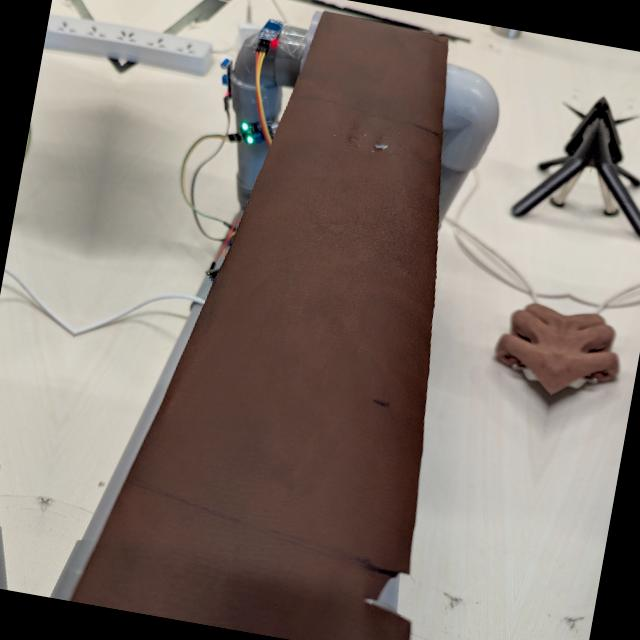belt_crack: (316, 95, 424, 173)
belt_tear: (353, 536, 425, 639)
